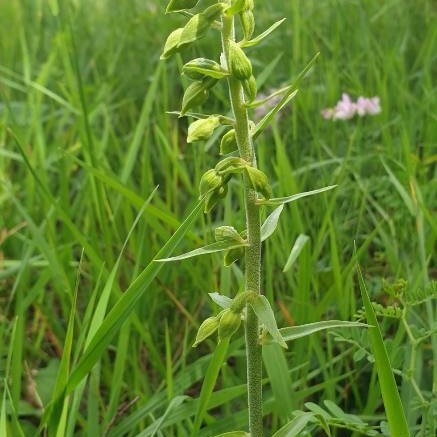obstacle: (145, 19, 302, 402)
